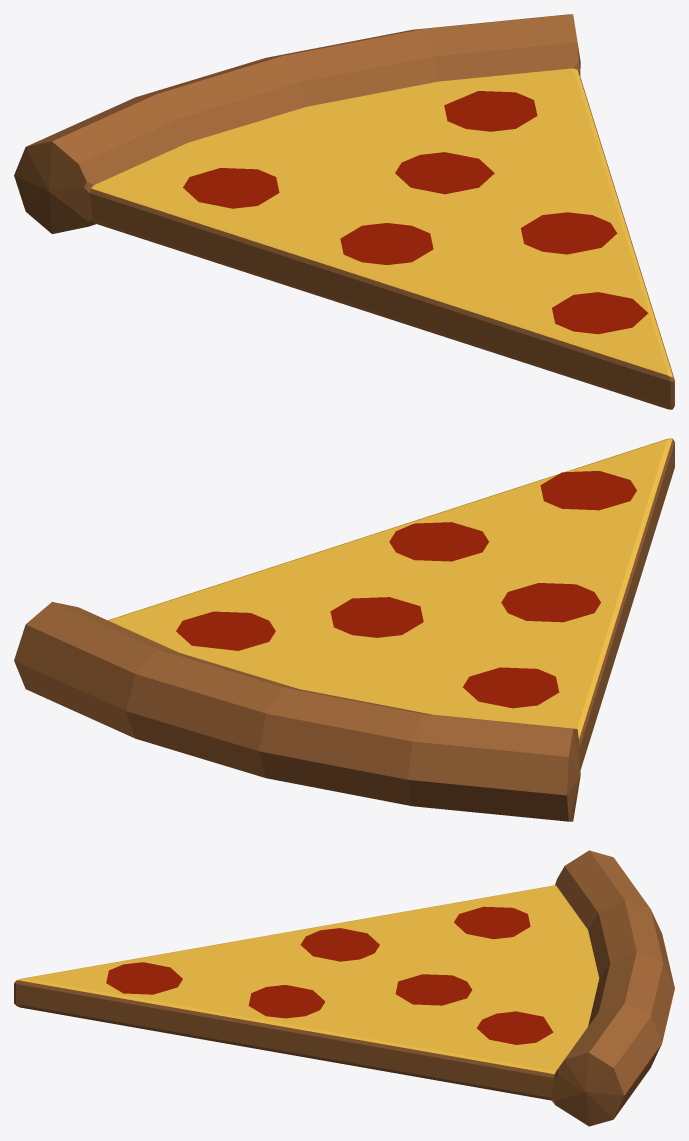
File: Pizza_One_Piece.glb
3 views of the same model, one above another, from view 1: azimuth 30°, elevation 25°; view 2: azimuth 150°, elevation 25°; view 3: azimuth 270°, elevation 25° (orthographic). The views are drawn at different scales.
Parts seen in each view (by area): view 1: Pizza_One_Piece; view 2: Pizza_One_Piece; view 3: Pizza_One_Piece.
Part boxes in pixels (x1=…): Pizza_One_Piece: x1=14, y1=14, x2=674, y2=409; Pizza_One_Piece: x1=14, y1=438, x2=674, y2=821; Pizza_One_Piece: x1=14, y1=850, x2=674, y2=1126.
Bounding box in the file's own units: 0.0761 × 0.0122 × 0.099.
Materials: 1 (1 with a texture image).
